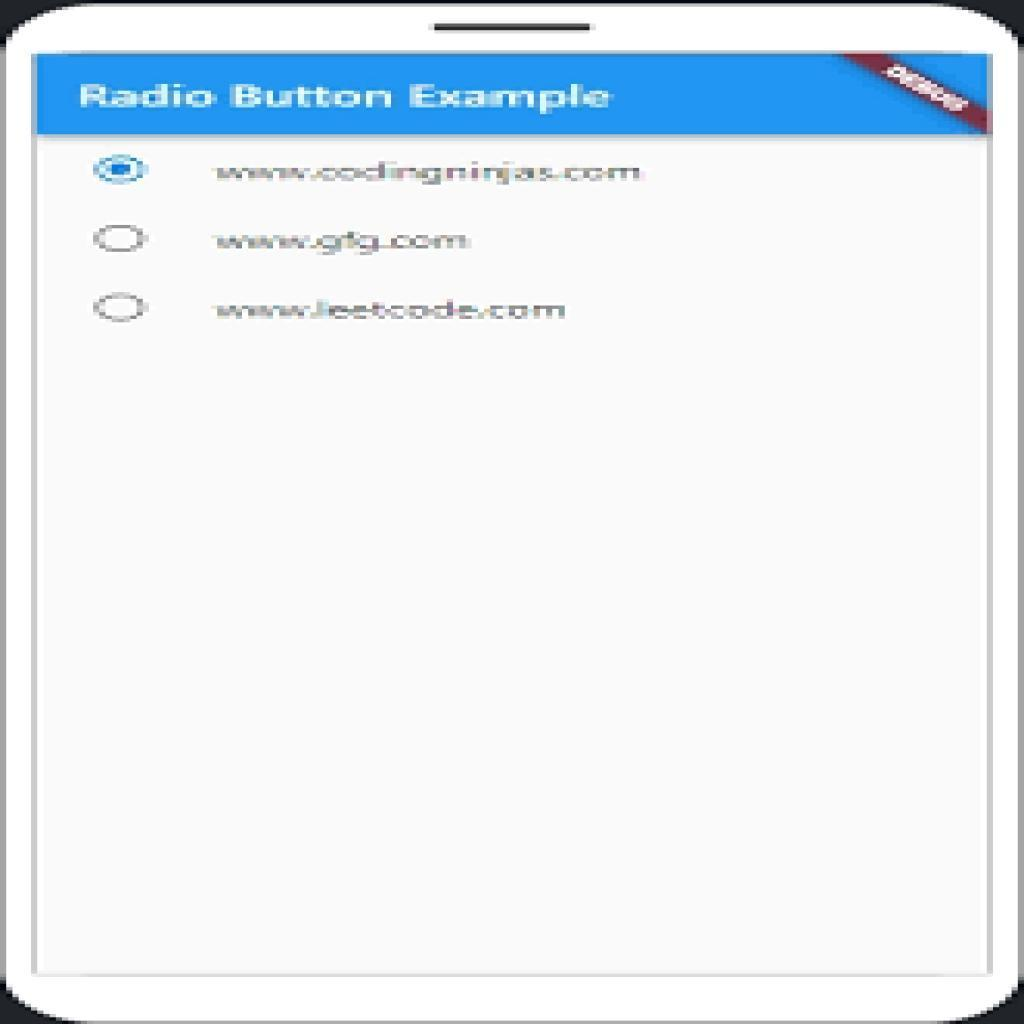radio: (87, 150, 150, 192), (91, 288, 155, 327), (91, 218, 152, 257)
